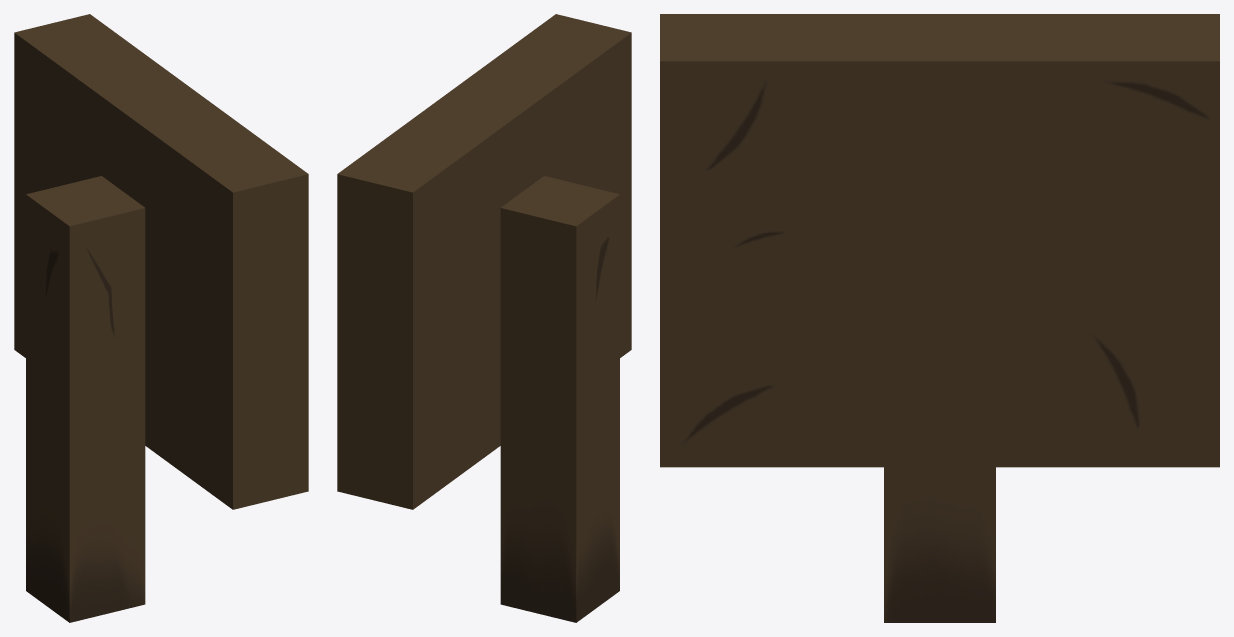
File: cartel.fbx
3 views of the same model, side by side, from view 1: azimuth 30°, elevation 25°; view 2: azimuth 150°, elevation 25°; view 3: azimuth 270°, elevation 25° (orthographic). The views are drawn at different scales.
Parts seen in each view (by area): view 1: pCube9; view 2: pCube9; view 3: pCube9.
Part boxes in pixels (box(x1,y1,x2,y2)): pCube9: box(14, 14, 308, 622); pCube9: box(337, 14, 631, 622); pCube9: box(660, 14, 1219, 622).
Size of the model in its own units: 2 by 6 by 5.
Materials: 1 (1 with a texture image).
